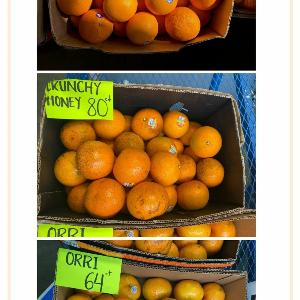orange: (26, 90, 258, 222), (47, 212, 261, 300), (49, 0, 241, 62)
